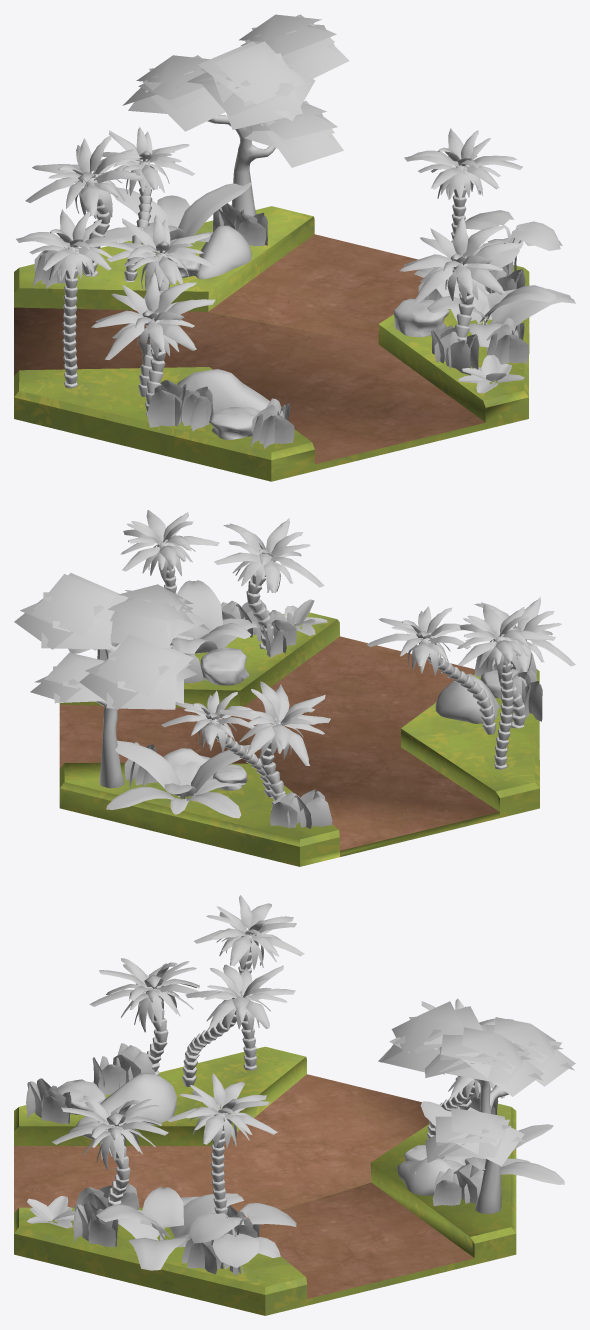
File: HexTile3.fbx
3 views of the same model, one above another, from view 1: azimuth 30°, elevation 25°; view 2: azimuth 150°, elevation 25°; view 3: azimuth 270°, elevation 25° (orthographic). The views are drawn at different scales.
Visible parts, largest first — view 1: Terrain_01.004, Tree7.003, normalPalm2.001, normalPalm2.002, normalPalm1.001, normalPalm2.003, normalPalm1.002, normalPalm3.001, plant2.004, plant1.006, normalPalm3.002, monsteraPlant.004 (+9 smaller); view 2: Terrain_01.004, Tree7.003, plant1.006, normalPalm2.003, normalPalm1.001, normalPalm2.002, normalPalm3.001, normalPalm1.002, plant2.004, normalPalm3.002, normalPalm2.001, rock2_low.011 (+7 smaller); view 3: Terrain_01.004, Tree7.003, plant2.004, normalPalm3.001, normalPalm1.002, normalPalm1.001, normalPalm2.002, normalPalm2.001, monsteraPlant.004, rock2_low.011, plant1.006, rock2_low.012 (+7 smaller).
Part boxes in pixels (x1,y1,x2,y2): Terrain_01.004: (14,206,529,481); Tree7.003: (122,14,349,216); normalPalm2.001: (91,272,215,416); normalPalm2.002: (399,216,523,343); normalPalm1.001: (16,209,134,388); normalPalm2.003: (25,135,143,276); normalPalm1.002: (404,128,522,271); normalPalm3.001: (106,214,217,396); plant2.004: (414,267,575,347); plant1.006: (88,182,251,252); normalPalm3.002: (102,127,194,282); monsteraPlant.004: (465,210,562,275); Terrain_01.004: (59,612,539,866); Tree7.003: (14,573,209,788); plant1.006: (106,740,261,818); normalPalm2.003: (219,681,330,812); normalPalm1.001: (457,604,555,769); normalPalm2.002: (214,518,324,649); normalPalm3.001: (366,606,496,734); normalPalm1.002: (120,510,219,648); plant2.004: (171,580,258,653); normalPalm3.002: (161,690,272,797); normalPalm2.001: (465,597,575,728); rock2_low.011: (435,673,499,723); Terrain_01.004: (14,1046,516,1315); Tree7.003: (378,1001,575,1213); plant2.004: (96,1187,243,1270); normalPalm3.001: (182,964,295,1086); normalPalm1.002: (167,1073,277,1234); normalPalm1.001: (194,895,304,1070); normalPalm2.002: (52,1095,168,1206); normalPalm2.001: (89,958,203,1075); monsteraPlant.004: (189,1203,296,1274); rock2_low.011: (76,1073,176,1142); plant1.006: (415,1101,564,1184); rock2_low.012: (397,1157,456,1195).
Size of the model in its own units: 2065 by 837 by 1935.
